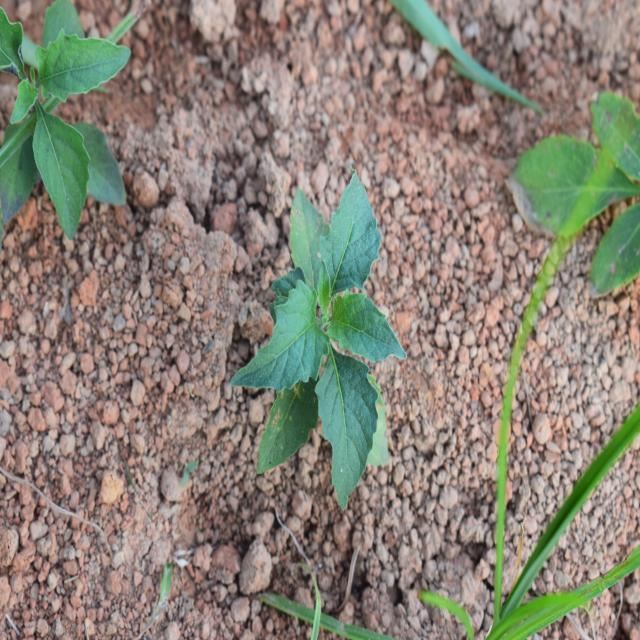Black_nightshade: (243, 190, 410, 495), (0, 3, 154, 232)
